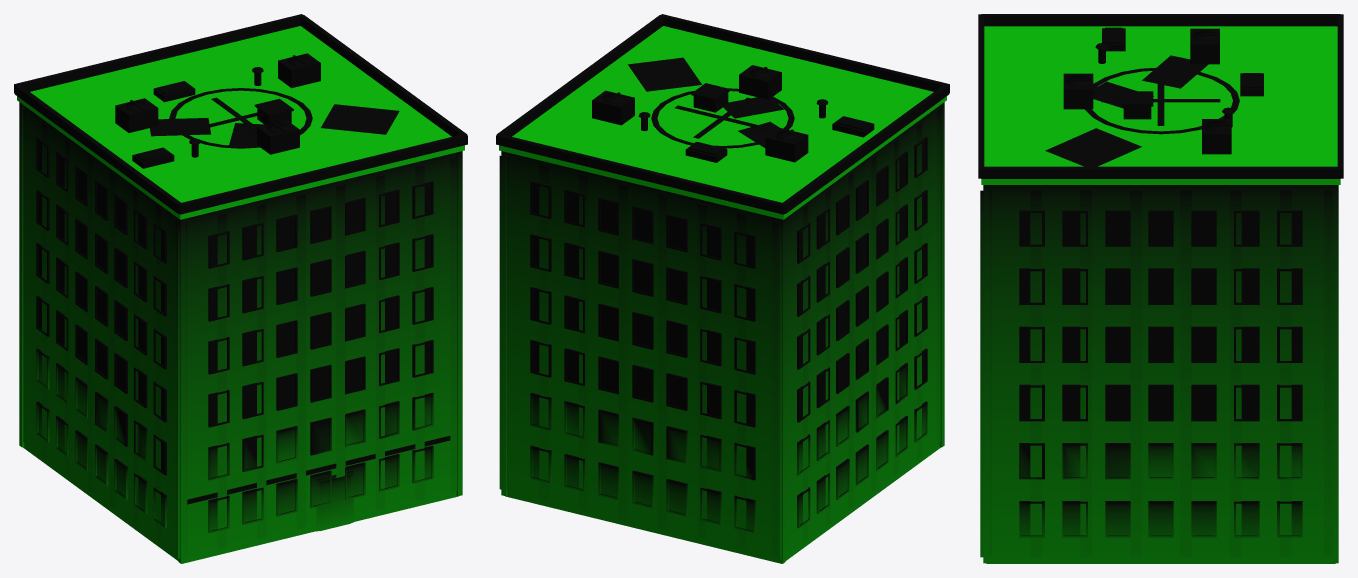
File: city6storyb.glb
3 views of the same model, side by side, from view 1: azimuth 30°, elevation 25°; view 2: azimuth 150°, elevation 25°; view 3: azimuth 270°, elevation 25° (orthographic). The views are drawn at different scales.
Parts seen in each view (by area): view 1: lod0; view 2: lod0; view 3: lod0.
Boxes of the visible parts, x1,y1,x2,y2 form: lod0: (14,14,467,563); lod0: (496,14,949,563); lod0: (978,14,1343,563).
Size of what is drawn, in the model's own units: 18.6 by 22.94 by 18.5.
